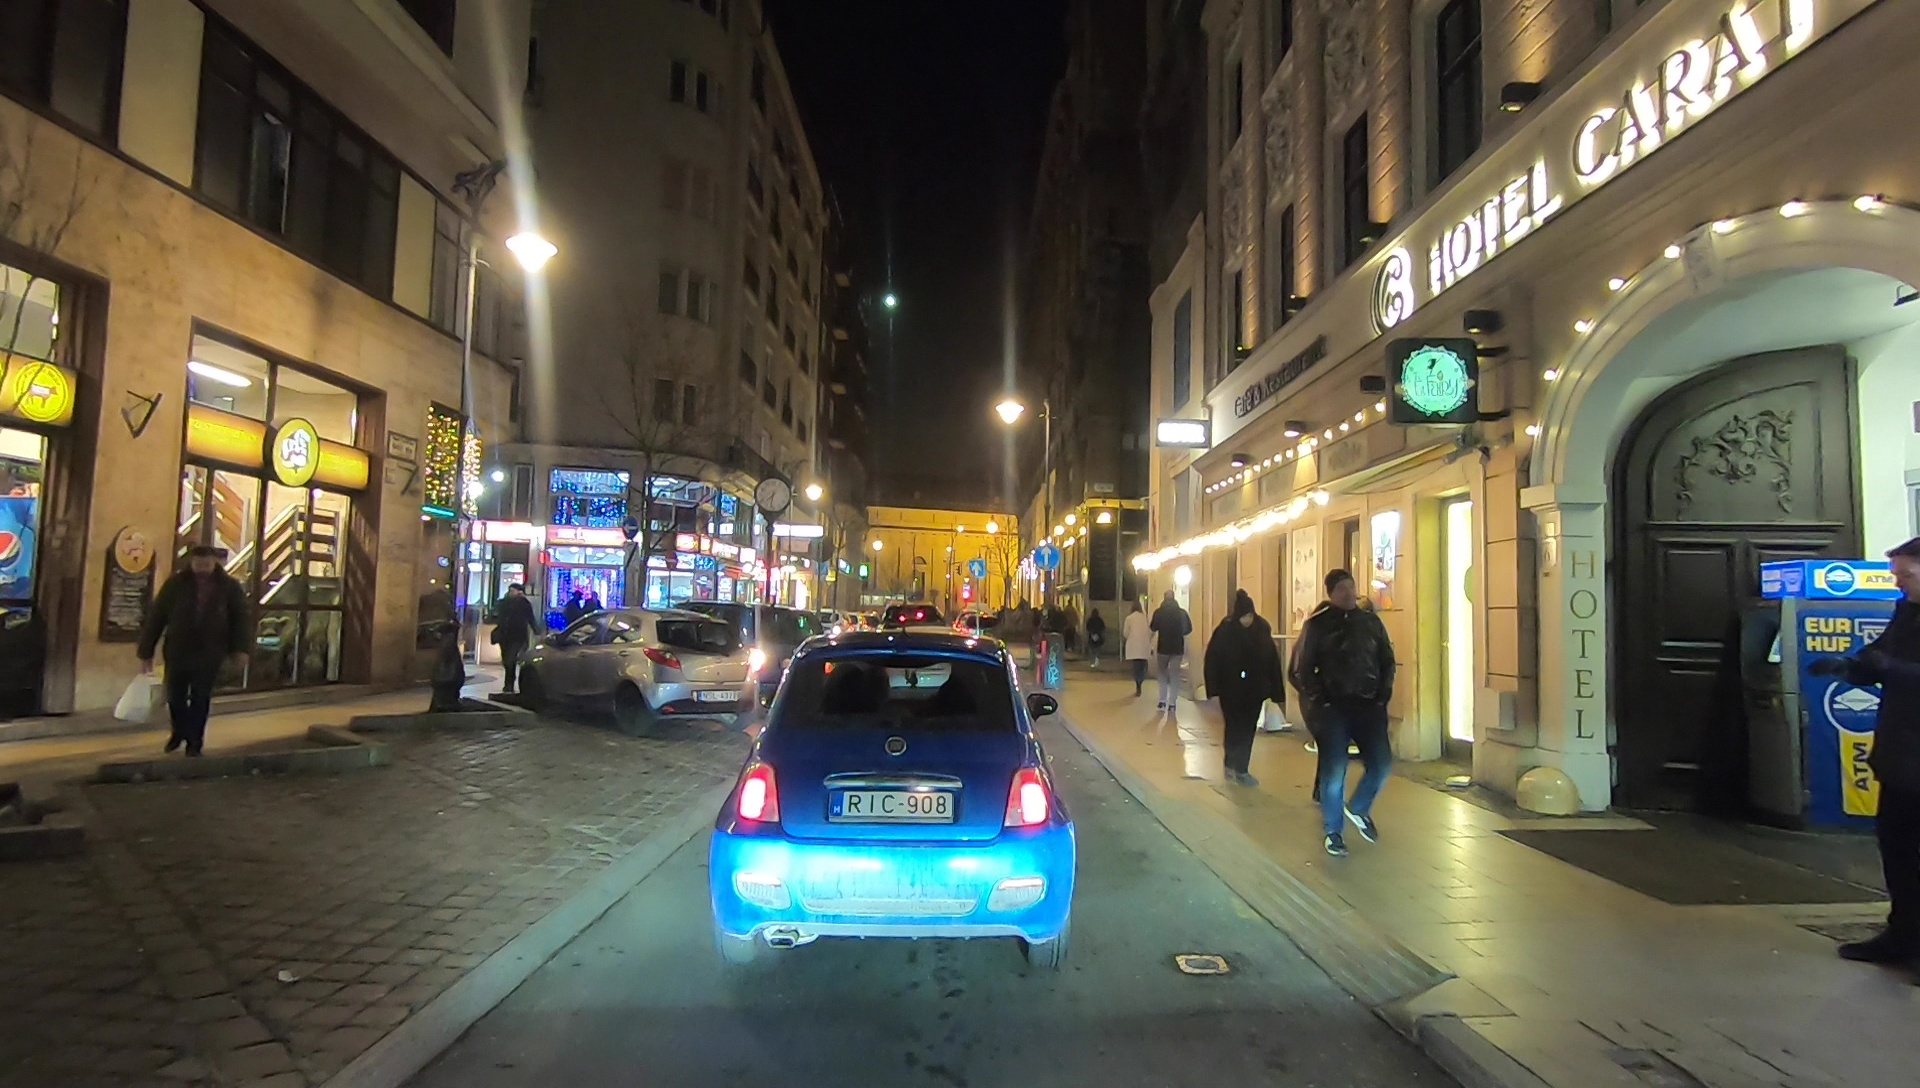person: (1821, 532, 1920, 965), (1297, 571, 1397, 858), (149, 547, 243, 754), (1206, 582, 1282, 786), (1152, 591, 1191, 713), (491, 574, 532, 680), (1123, 604, 1152, 695), (1060, 599, 1079, 660), (563, 588, 581, 648), (1086, 605, 1101, 666)
